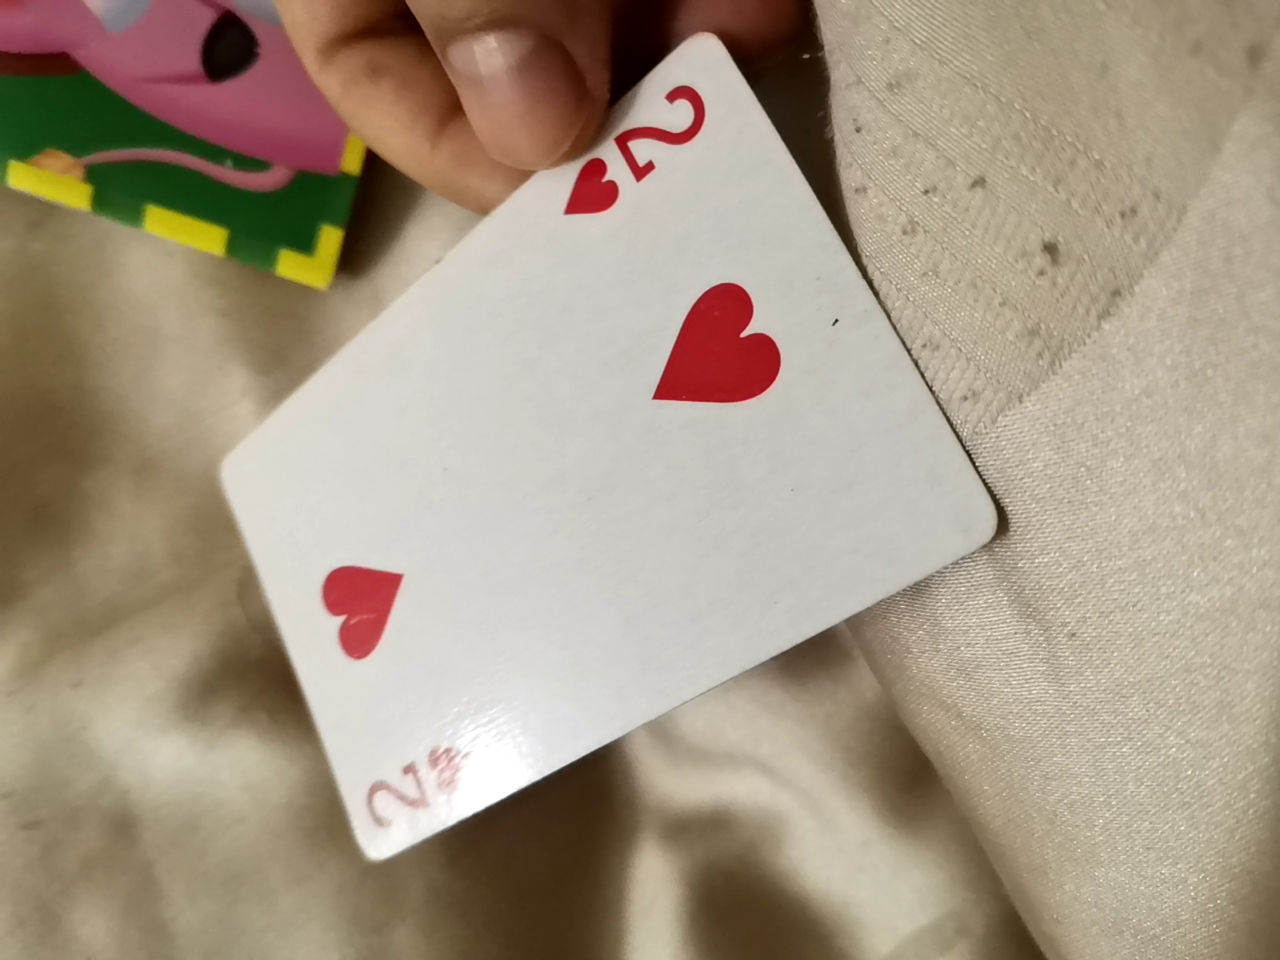hx 2: (208, 39, 996, 859)
